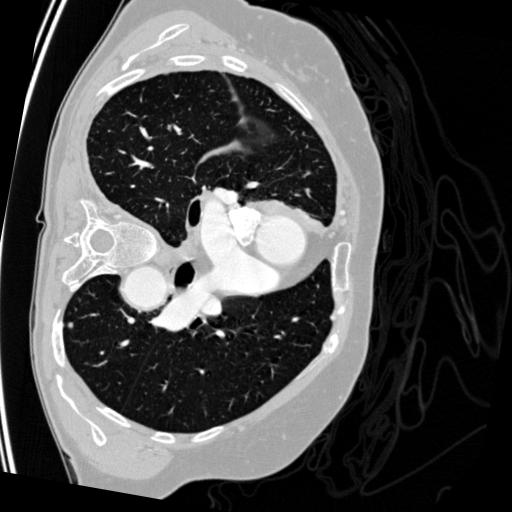nodule: (65, 318, 78, 331)
